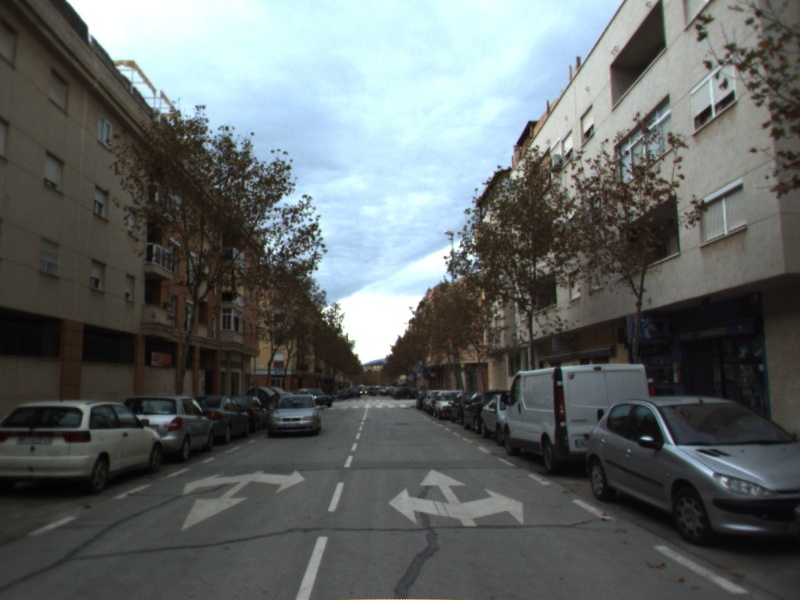STRAIGHT_LEFT_RIGHT: (386, 467, 525, 528)
